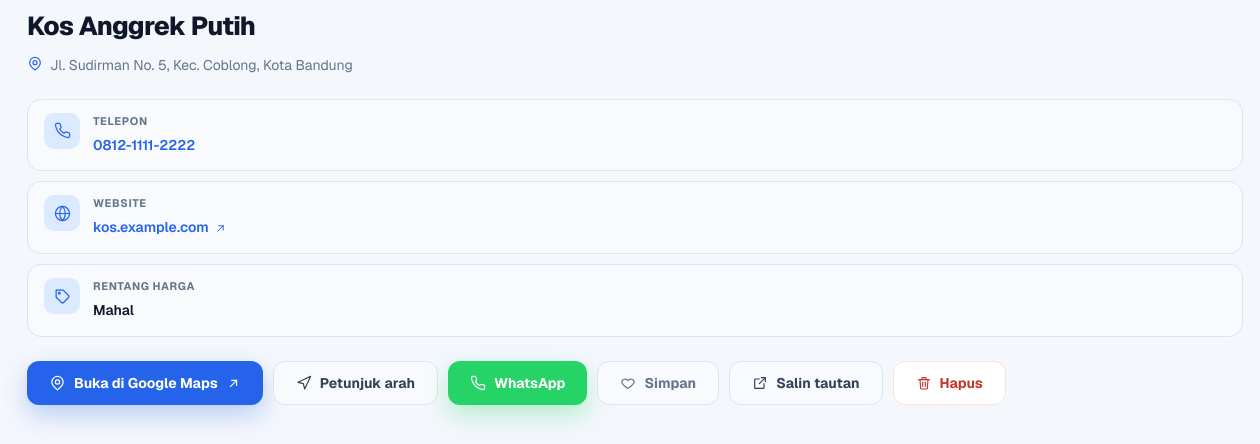
Test: InfoSection.vue › toggles the favorite state from the detail page
The width and height of the screenshot is (1260, 444).
Click the button with class "btn-fav": (658, 383) [597,361,719,405]
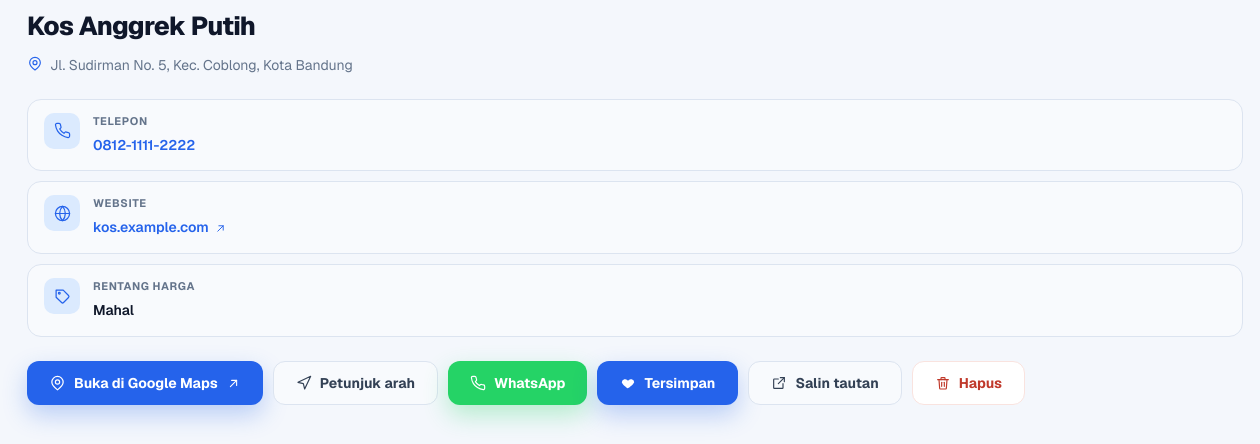
Expected: the button with class "btn-fav" reads "Tersimpan", [597,361,738,405]
